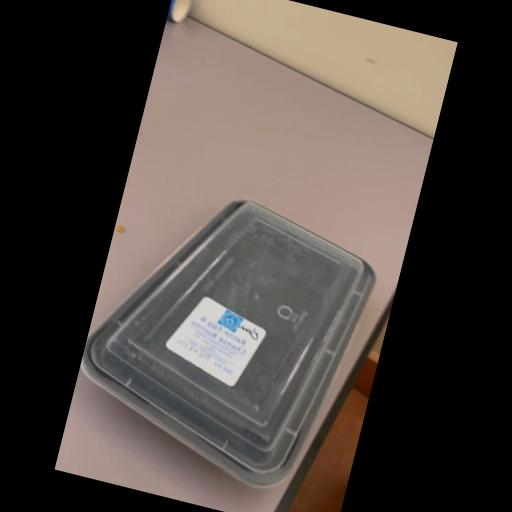rigid_plastic_container: (70, 176, 386, 489)
